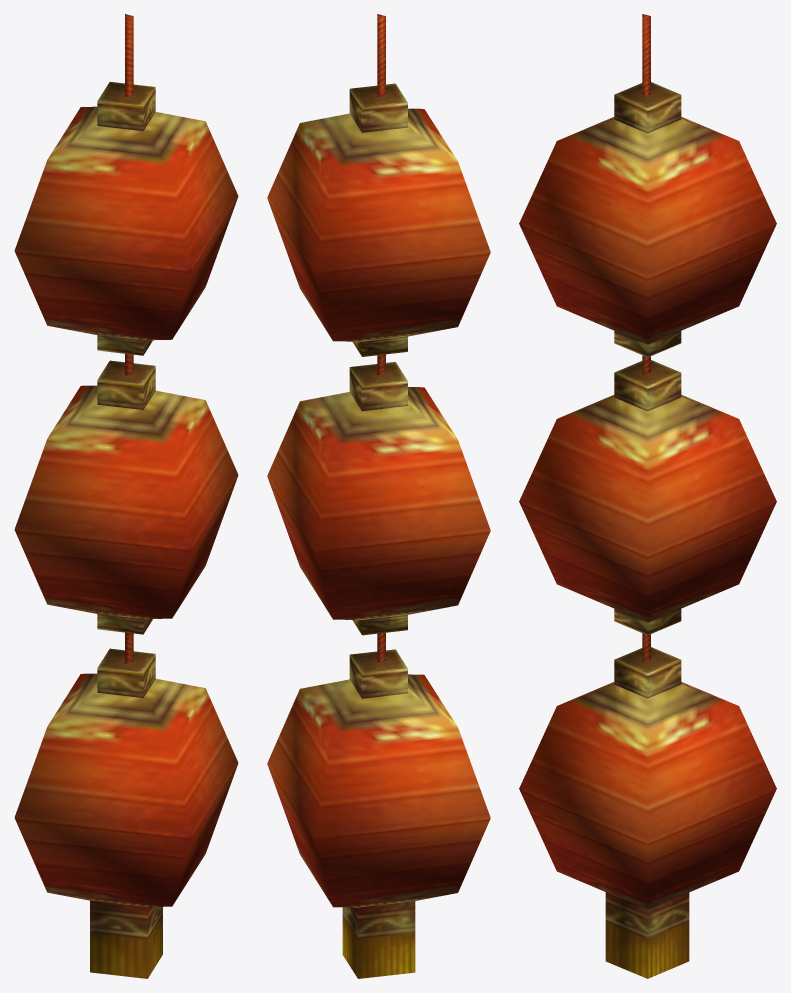
The model's file is deng_long_004.FBX.
3 views of the same model, side by side, from view 1: azimuth 30°, elevation 25°; view 2: azimuth 150°, elevation 25°; view 3: azimuth 270°, elevation 25° (orthographic).
Parts seen in each view (by area): view 1: deng_long_004; view 2: deng_long_004; view 3: deng_long_004.
Part boxes in pixels (x1,y1,x2,y2): deng_long_004: (14,14,238,978); deng_long_004: (267,14,490,978); deng_long_004: (519,14,776,978).
Bounding box in the file's own units: 29.85 × 121 × 29.85.
